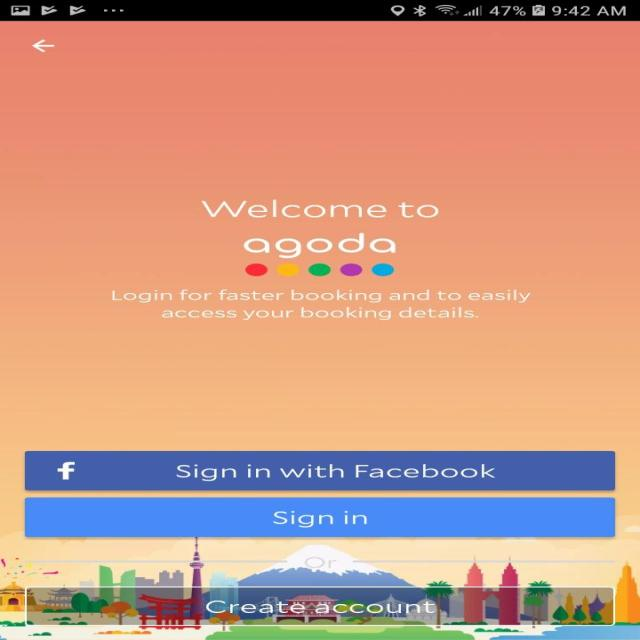BackgroundImage: (0, 21, 639, 639)
Icon: (31, 39, 55, 53)
Text: (111, 289, 531, 320), (200, 199, 438, 219), (242, 232, 396, 258), (302, 556, 336, 568)
TextButton: (25, 585, 615, 626), (24, 497, 614, 537), (25, 450, 615, 490)
